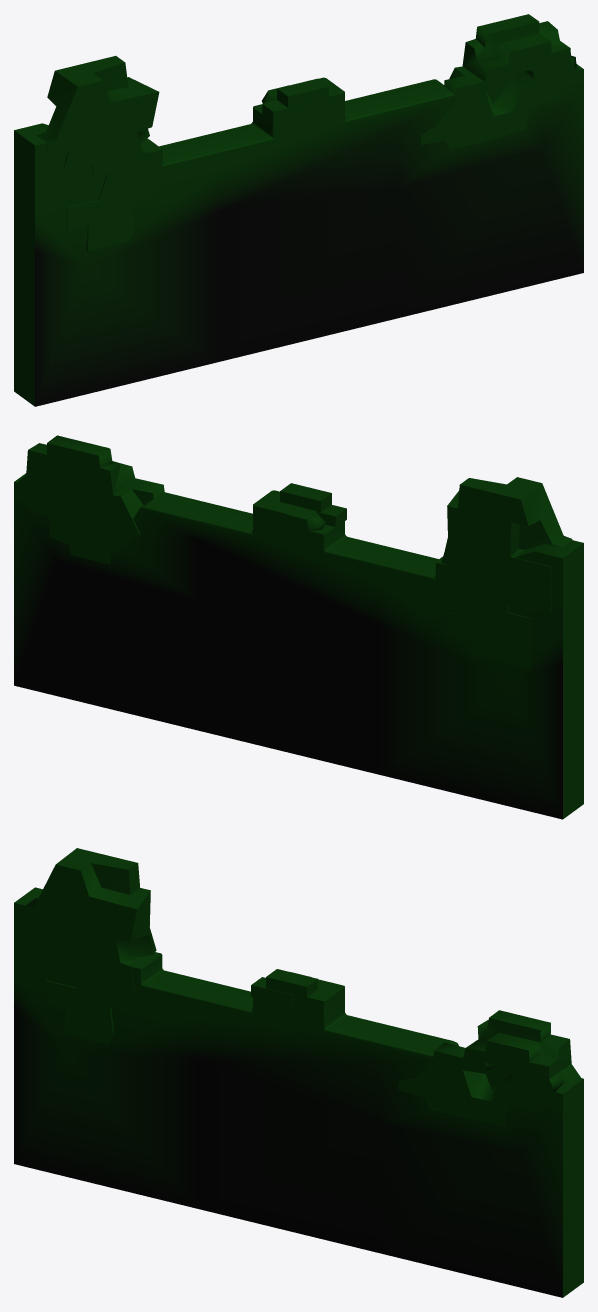
Rendered from DBK_Brick_WinDouble_Tile.fbx.
3 views of the same model, one above another, from view 1: azimuth 30°, elevation 25°; view 2: azimuth 150°, elevation 25°; view 3: azimuth 330°, elevation 25° (orthographic).
Parts seen in each view (by area): view 1: DBK_Brick_WinDouble_Tile; view 2: DBK_Brick_WinDouble_Tile; view 3: DBK_Brick_WinDouble_Tile.
Part boxes in pixels (x1,y1,x2,y2): DBK_Brick_WinDouble_Tile: (14, 14, 583, 406); DBK_Brick_WinDouble_Tile: (14, 435, 583, 819); DBK_Brick_WinDouble_Tile: (14, 848, 583, 1297).
Bounding box in the file's own units: 300 × 162 × 21.19.
